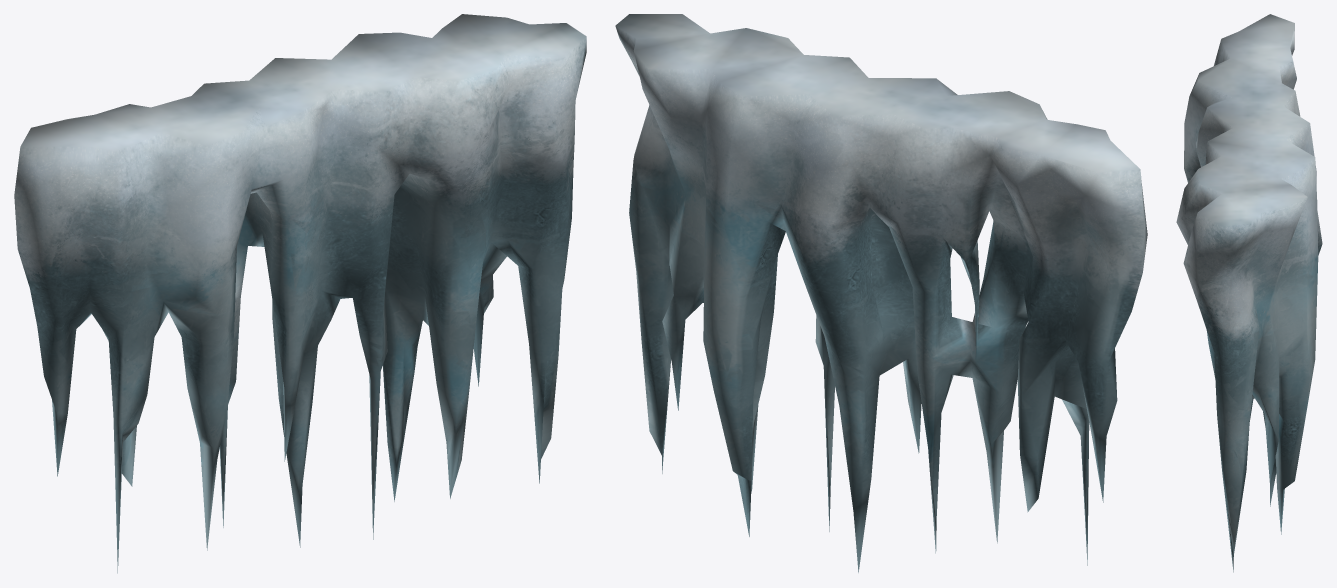
Rendered from Ice_01.fbx.
The picture shows the model from 3 angles, left to right: view 1: azimuth 30°, elevation 25°; view 2: azimuth 150°, elevation 25°; view 3: azimuth 270°, elevation 25°; orthographic projection. The views are drawn at different scales.
Parts seen in each view (by area): view 1: Low; view 2: Low; view 3: Low.
Boxes of the visible parts, x1,y1,x2,y2 form: Low: [14, 14, 586, 573]; Low: [615, 14, 1147, 572]; Low: [1176, 14, 1322, 572].
Bounding box in the file's own units: 214 × 177 × 60.79.
